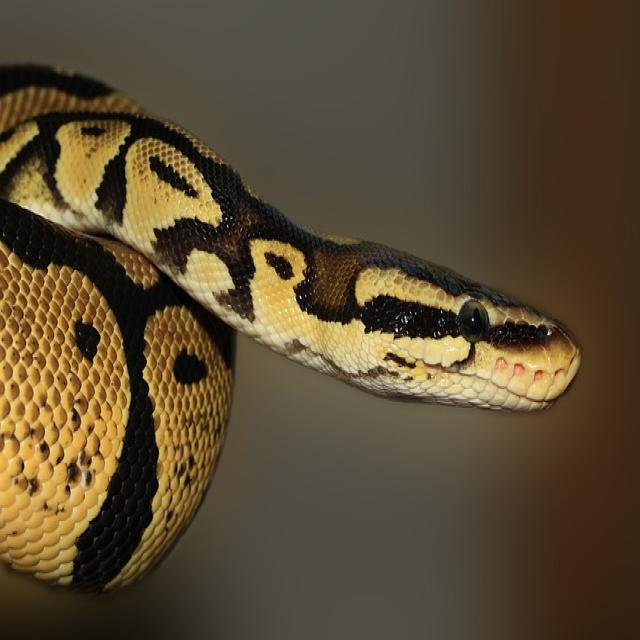Carnivorous: (0, 62, 582, 595)
